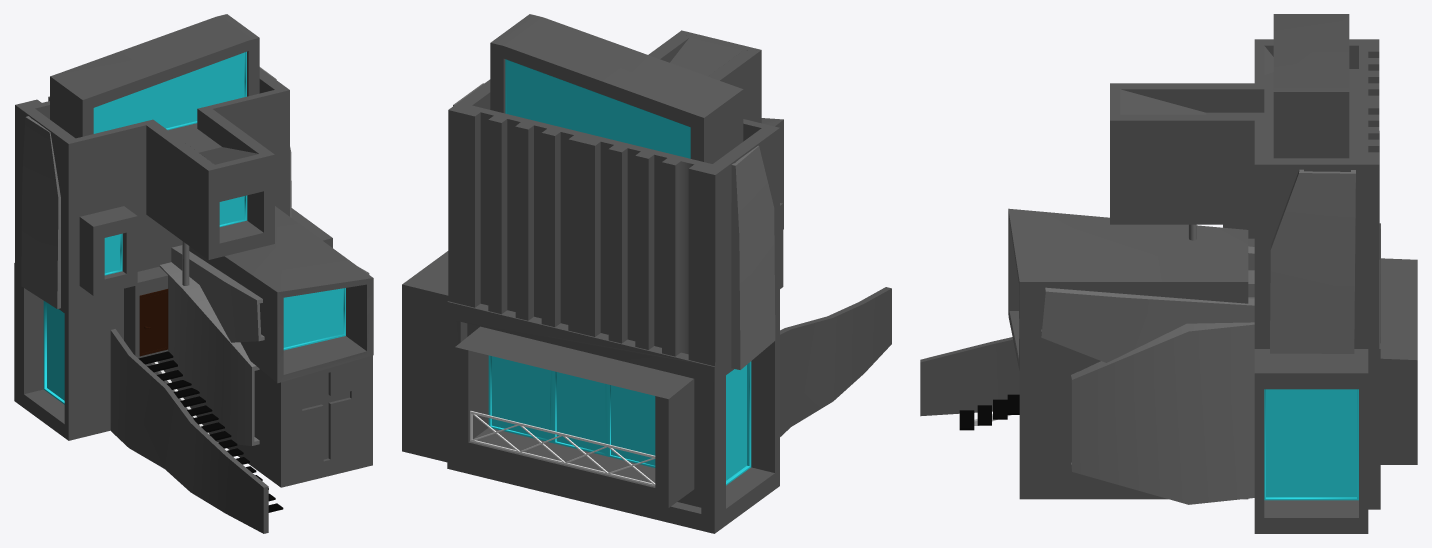
The model's file is taxoffice1.fbx.
The picture shows the model from 3 angles, left to right: view 1: azimuth 30°, elevation 25°; view 2: azimuth 150°, elevation 25°; view 3: azimuth 270°, elevation 25°; orthographic projection. The views are drawn at different scales.
Visible parts, largest first — view 1: Box018, Box017, Box016, stena, Box042, Box021, Box019.001, Box019, Group001; view 2: Box018, stena, Box042, Box019.001, Box014; view 3: Box018, Box044, Box017, Box043.001, stena, Box043, Box016, Box042, Box038.
Part boxes in pixels (<box>): Box018: <box>14,14,332,440</box>; Box017: <box>189,206,373,383</box>; Box016: <box>227,355,372,487</box>; stena: <box>43,51,345,404</box>; Box042: <box>110,329,268,533</box>; Box021: <box>159,262,259,445</box>; Box019.001: <box>21,116,60,308</box>; Box019: <box>171,245,264,342</box>; Group001: <box>139,289,168,356</box>; Box018: <box>402,14,783,533</box>; stena: <box>488,59,751,485</box>; Box042: <box>780,287,891,436</box>; Box019.001: <box>731,145,775,369</box>; Box014: <box>470,411,655,486</box>; Box018: <box>1110,14,1417,533</box>; Box044: <box>1071,297,1254,504</box>; Box017: <box>1008,208,1248,371</box>; Box043.001: <box>1270,169,1355,353</box>; stena: <box>1264,389,1358,500</box>; Box043: <box>1040,287,1254,362</box>; Box016: <box>1019,371,1247,499</box>; Box042: <box>920,337,1019,416</box>; Box038: <box>959,405,991,430</box>.
Size of the model in its own units: 1132 by 1389 by 1544.
